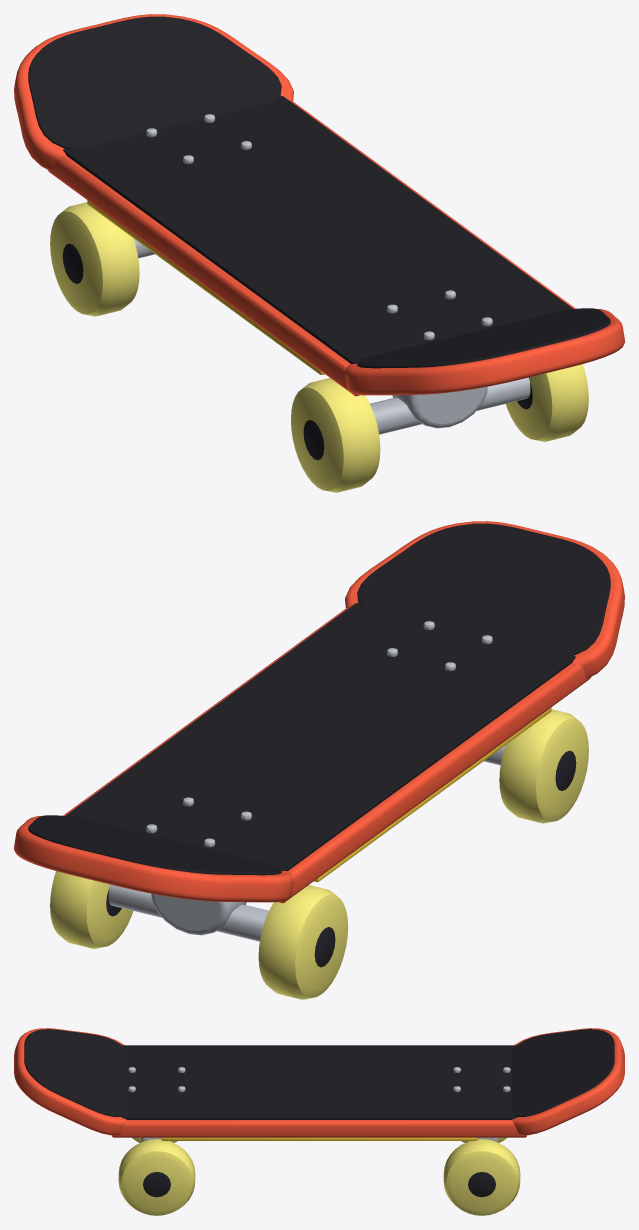
The model's file is Skateboard.fbx.
The picture shows the model from 3 angles, top to bottom: view 1: azimuth 30°, elevation 25°; view 2: azimuth 150°, elevation 25°; view 3: azimuth 270°, elevation 25°; orthographic projection. The views are drawn at different scales.
Parts seen in each view (by area): view 1: Grip, Deck, Wheel, Steel, Dark, Graphic; view 2: Grip, Deck, Wheel, Steel, Dark, Graphic; view 3: Grip, Deck, Wheel, Graphic, Dark, Steel.
Part boxes in pixels (x1,y1,x2,y2): Grip: [28, 16, 610, 368]; Deck: [14, 14, 624, 396]; Wheel: [50, 202, 588, 492]; Steel: [133, 114, 530, 434]; Dark: [62, 243, 532, 460]; Graphic: [87, 200, 324, 374]; Grip: [28, 523, 610, 875]; Deck: [14, 521, 624, 903]; Wheel: [50, 709, 588, 999]; Steel: [108, 621, 505, 941]; Dark: [106, 750, 576, 967]; Graphic: [314, 707, 551, 881]; Grip: [24, 1029, 614, 1119]; Deck: [14, 1028, 624, 1137]; Wheel: [118, 1137, 520, 1215]; Graphic: [161, 1137, 477, 1140]; Dark: [143, 1172, 495, 1197]; Steel: [128, 1067, 510, 1142].
Bounding box in the file's own units: 88.31 × 61.69 × 271.
